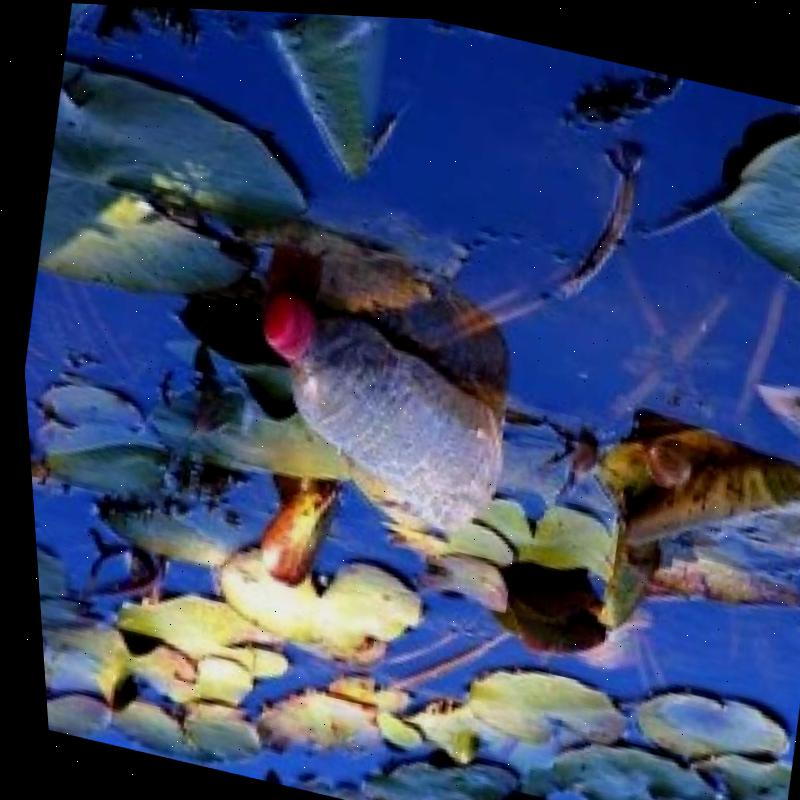botella: (225, 285, 526, 534)
